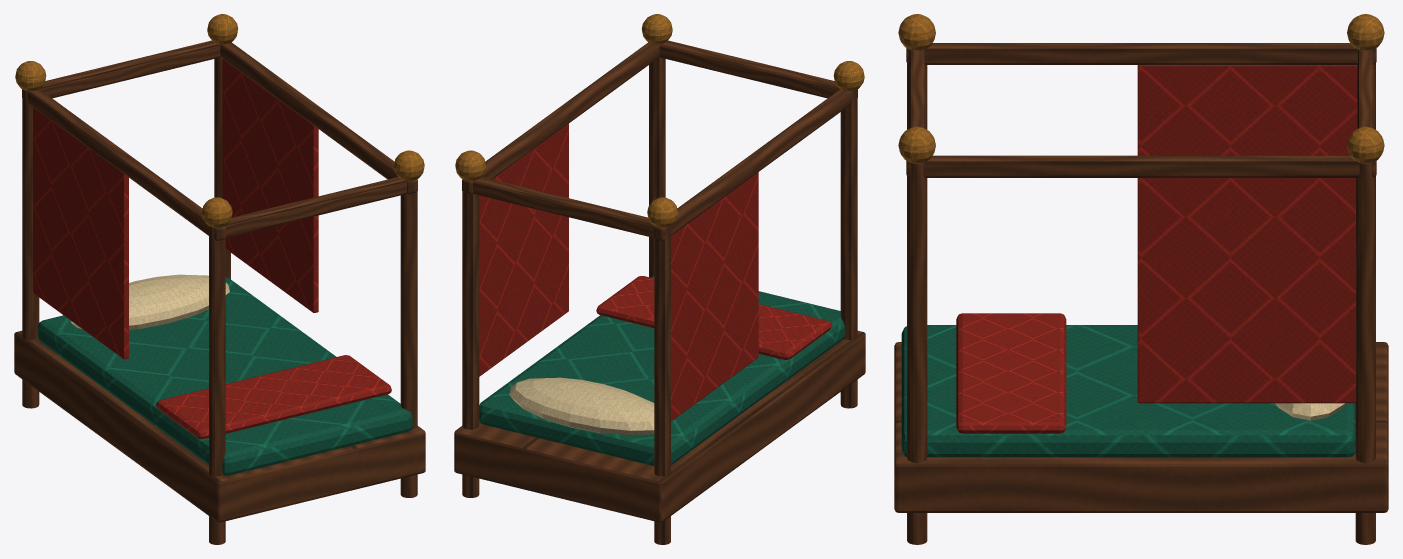
File: canopy_bed.glb
3 views of the same model, side by side, from view 1: azimuth 30°, elevation 25°; view 2: azimuth 150°, elevation 25°; view 3: azimuth 270°, elevation 25° (orthographic). The views are drawn at different scales.
Parts seen in each view (by area): view 1: canopy_bed_Walnut, canopy_bed_Brocade, canopy_bed_Silk, canopy_bed_Paper, canopy_bed_Brass; view 2: canopy_bed_Walnut, canopy_bed_Brocade, canopy_bed_Silk, canopy_bed_Paper, canopy_bed_Brass; view 3: canopy_bed_Brocade, canopy_bed_Walnut, canopy_bed_Silk, canopy_bed_Brass, canopy_bed_Paper.
Part boxes in pixels (x1,y1,x2,y2): canopy_bed_Walnut: [14, 40, 425, 544]; canopy_bed_Brocade: [33, 59, 391, 439]; canopy_bed_Silk: [37, 277, 412, 475]; canopy_bed_Paper: [70, 274, 229, 330]; canopy_bed_Brass: [15, 14, 424, 227]; canopy_bed_Walnut: [454, 40, 865, 544]; canopy_bed_Brocade: [479, 123, 831, 421]; canopy_bed_Silk: [479, 276, 844, 465]; canopy_bed_Paper: [509, 377, 654, 434]; canopy_bed_Brass: [455, 14, 864, 227]; canopy_bed_Brocade: [956, 65, 1357, 433]; canopy_bed_Walnut: [894, 43, 1388, 544]; canopy_bed_Silk: [901, 325, 1355, 457]; canopy_bed_Brass: [898, 14, 1384, 163]; canopy_bed_Paper: [1275, 403, 1345, 420].
Bounding box in the file's own units: 1.94 × 2.9 × 3.15.
5 materials, 5 textured.
